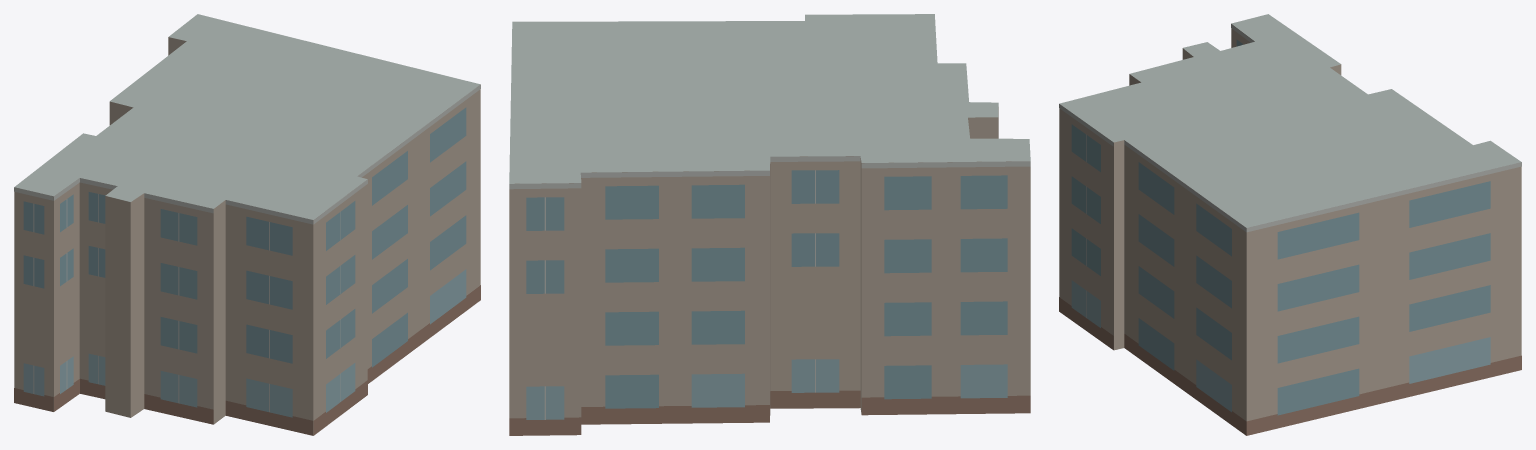
File: survey-upis-32950868.glb
The picture shows the model from 3 angles, left to right: view 1: azimuth 30°, elevation 25°; view 2: azimuth 150°, elevation 25°; view 3: azimuth 270°, elevation 25°; orthographic projection. The views are drawn at different scales.
Visible parts, largest first — view 1: survey-upis-32950868.tmp; view 2: survey-upis-32950868.tmp; view 3: survey-upis-32950868.tmp.
Boxes of the visible parts, x1,y1,x2,y2 form: survey-upis-32950868.tmp: (14,14,480,435); survey-upis-32950868.tmp: (509,14,1030,435); survey-upis-32950868.tmp: (1059,14,1521,435).
Size of the model in its own units: 25.4 by 11.5 by 23.2.
